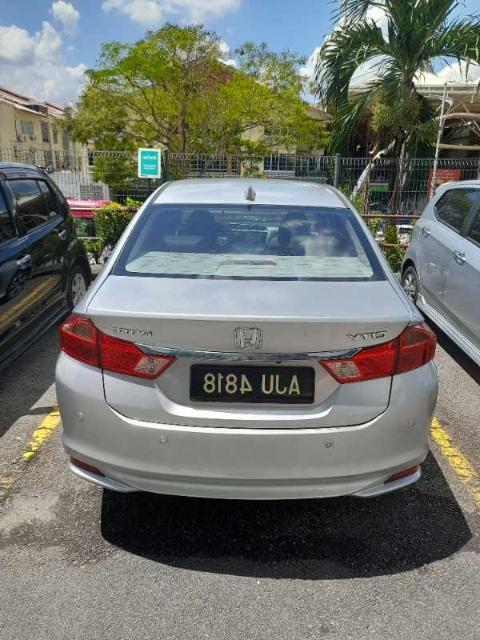License_Plate: (190, 363, 317, 403)
car: (55, 176, 440, 502)
